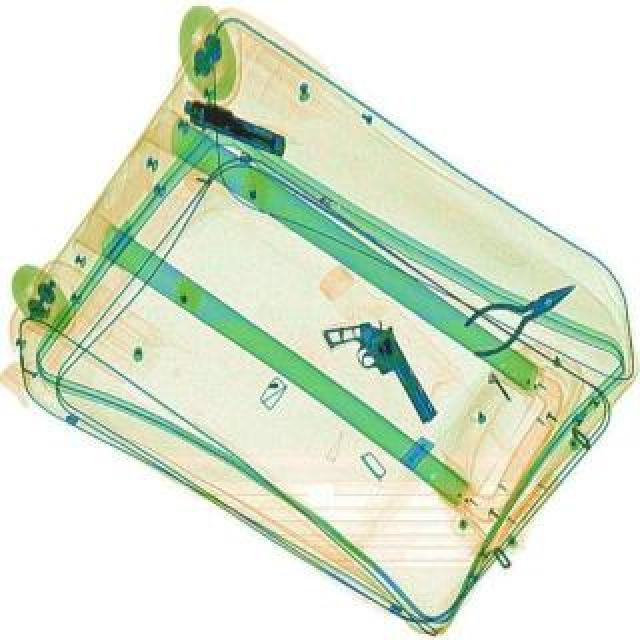gun: (318, 302, 438, 440), (176, 92, 292, 156)
wrench: (454, 264, 590, 362)
